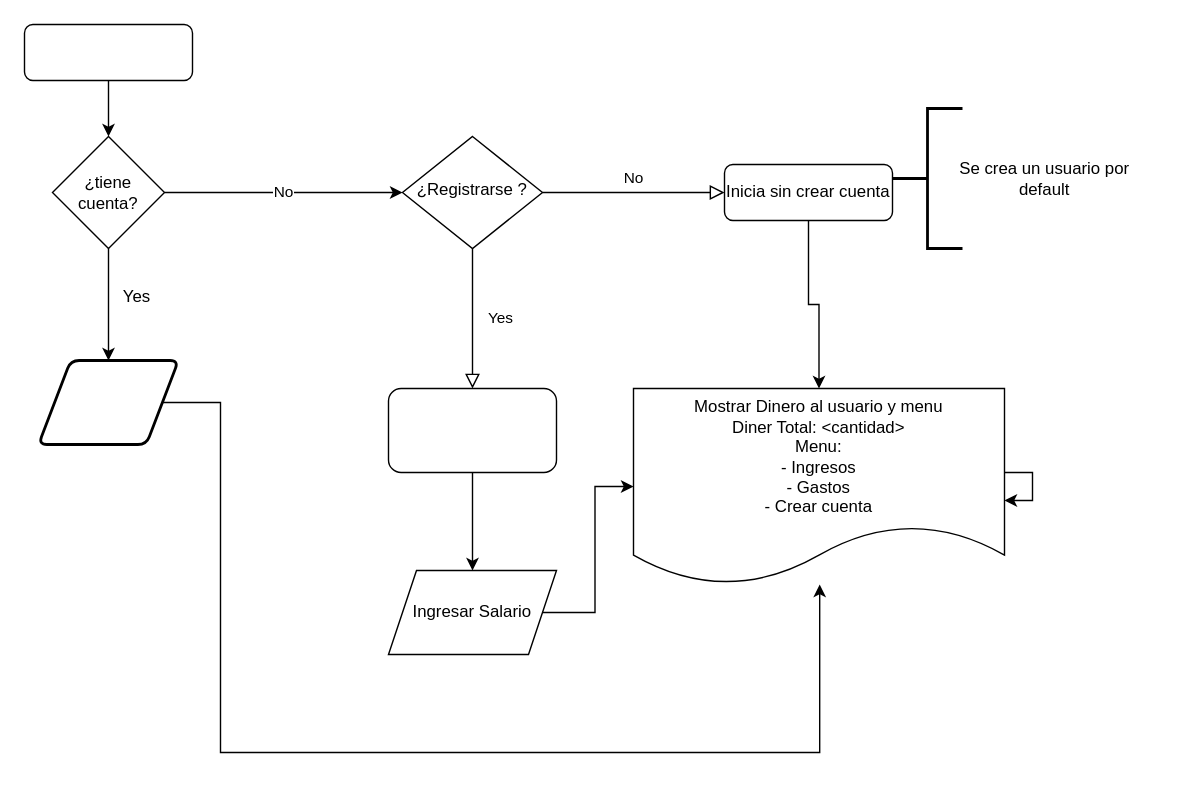
Image size: 1183x788. Some labels were removed from this diagram. The shapes that lost their labels are listed below. From the top down, each one's centre as x and y in pixels, then its label:
the point at 107,51: Inicio
the point at 107,401: login
the point at 471,429: Iniciar registro
